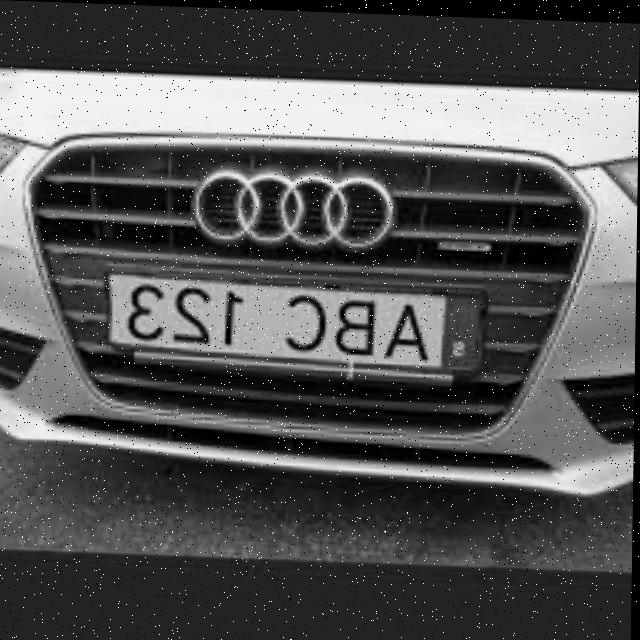license-plates: (109, 274, 478, 373)
